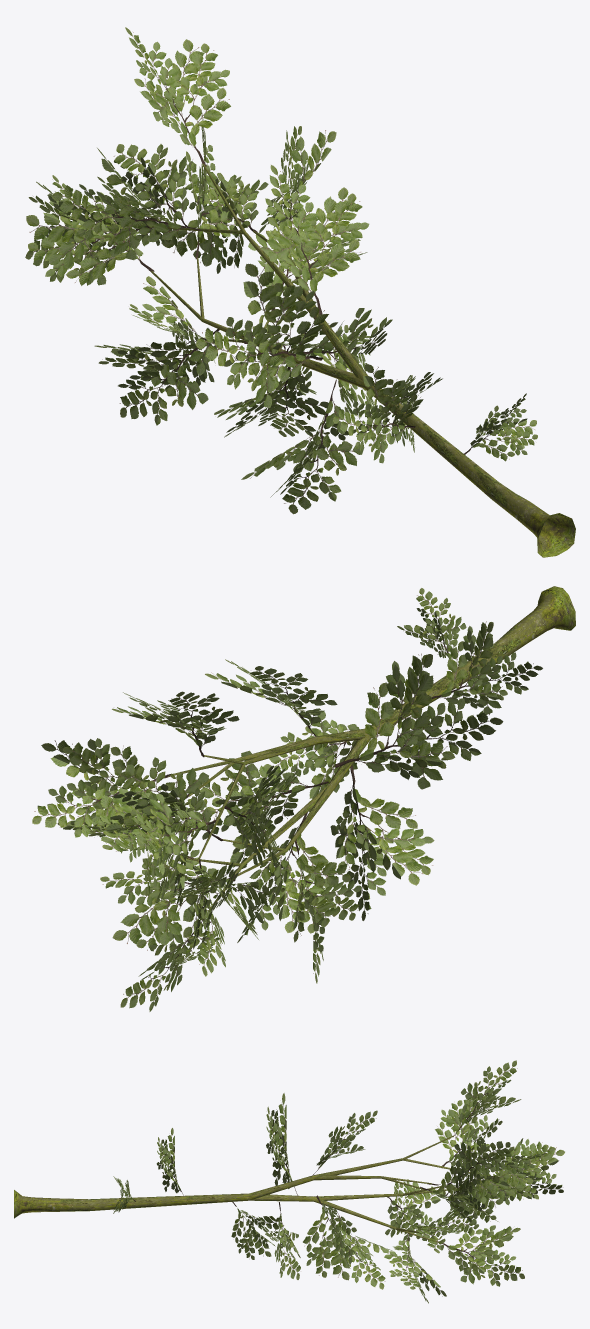
Rendered from tree fg 1.fbx.
3 renders of one model, top to bottom at view 1: azimuth 30°, elevation 25°; view 2: azimuth 150°, elevation 25°; view 3: azimuth 270°, elevation 25°, orthographic. The views are drawn at different scales.
Visible parts, largest first — view 1: Cylinder_008; view 2: Cylinder_008; view 3: Cylinder_008.
Part boxes in pixels (x1,y1,x2,y2): Cylinder_008: (25, 27, 575, 557); Cylinder_008: (32, 586, 575, 1011); Cylinder_008: (14, 1060, 564, 1303).
Bounding box in the file's own units: 6.91 × 7.56 × 16.71.
